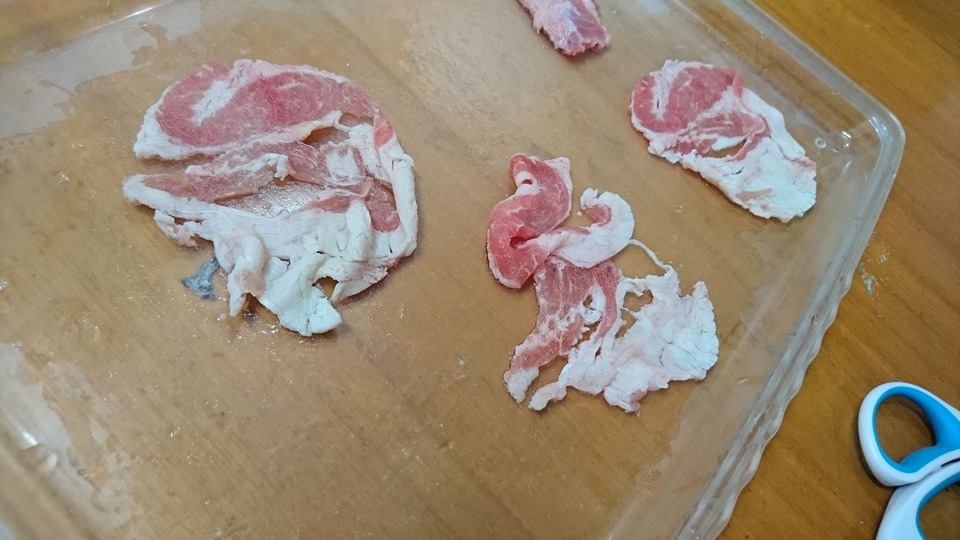restructured meat: (122, 55, 422, 346), (480, 145, 723, 418), (625, 54, 822, 235)
